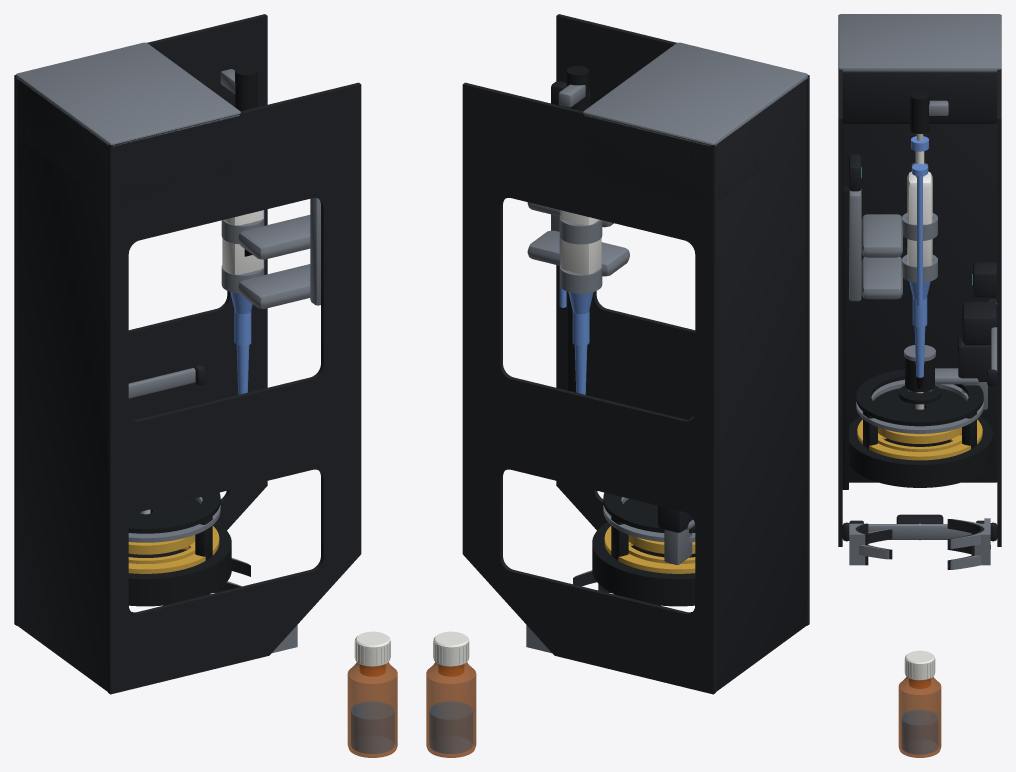
The model's file is vertical_hand.glb.
3 views of the same model, side by side, from view 1: azimuth 30°, elevation 25°; view 2: azimuth 150°, elevation 25°; view 3: azimuth 270°, elevation 25° (orthographic). The views are drawn at different scales.
Parts seen in each view (by area): view 1: plate_r, back_plate, plate_l, head_top, bottle, servo_head, housing_front, pipette_arm_1, pipette_arm_0, liquid, housing_shoulder, top_ring (+9 smaller); view 2: plate_l, back_plate, plate_r, head_top, bottle, servo_head, housing_front, liquid, pipette_body, pipette_arm_0, housing_shoulder, cap (+8 smaller); view 3: back_plate, head_top, servo_head, bottle, housing_front, top_ring, plate_l, plate_r, pipette_rail, housing_shoulder, pipette_arm_1, pipette_arm_0 (+33 smaller).
Part boxes in pixels (x1,y1,x2,y2): plate_r: (108,82,361,694); back_plate: (17,79,107,691); plate_l: (14,14,267,625); head_top: (15,42,240,146); bottle: (347,662,397,757); servo_head: (19,89,233,201); housing_front: (128,550,231,606); pipette_arm_1: (238,215,310,259); pipette_arm_0: (238,264,310,308); liquid: (351,701,394,753); housing_shoulder: (128,522,231,583); top_ring: (128,492,220,533); plate_l: (462,82,715,694); back_plate: (716,79,806,691); plate_r: (556,14,809,625); head_top: (583,42,808,146); bottle: (426,662,476,757); servo_head: (590,105,803,201); housing_front: (592,550,695,606); liquid: (429,701,472,753); pipette_body: (560,210,601,274); pipette_arm_0: (527,230,629,276); housing_shoulder: (592,522,695,583); cap: (433,631,469,666); back_plate: (842,123,997,482); head_top: (838,14,1001,72); servo_head: (842,72,997,123); bottle: (898,676,941,757); housing_front: (849,438,993,487); top_ring: (856,369,983,426); plate_l: (997,15,1001,546); plate_r: (838,15,842,546); pipette_rail: (842,186,848,489); housing_shoulder: (849,416,993,468); pipette_arm_1: (861,214,902,257); pipette_arm_0: (861,256,902,299).
Bounding box in the file's own units: 0.307 × 0.632 × 0.154.
